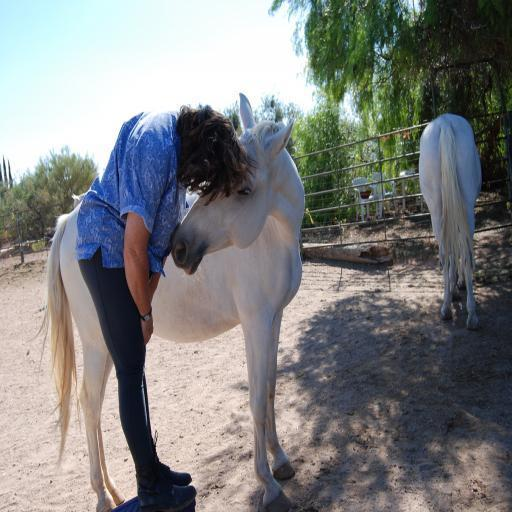horse: (30, 95, 306, 510), (418, 114, 482, 332)
